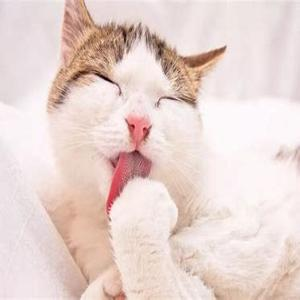cat: (54, 18, 217, 223)
